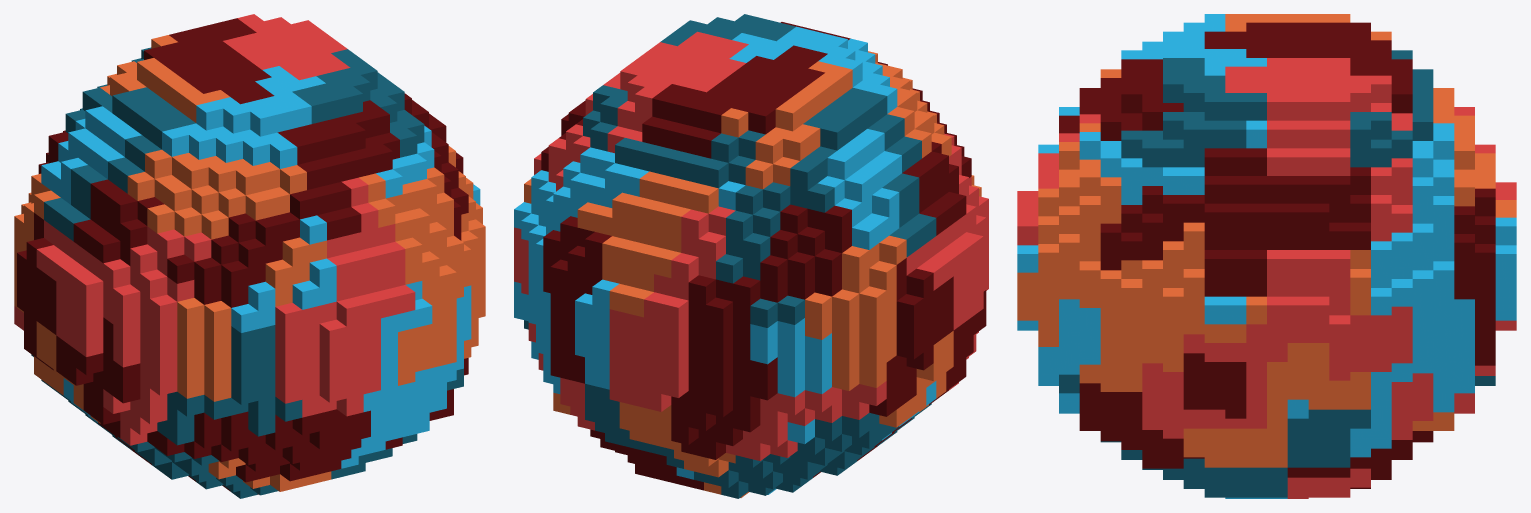
The model's file is planet_6.obj.
3 renders of one model, left to right at view 1: azimuth 30°, elevation 25°; view 2: azimuth 150°, elevation 25°; view 3: azimuth 270°, elevation 25°, orthographic. The views are drawn at different scales.
Bounding box in the file's own units: 23 × 22 × 24.
1 material, 1 textured.
